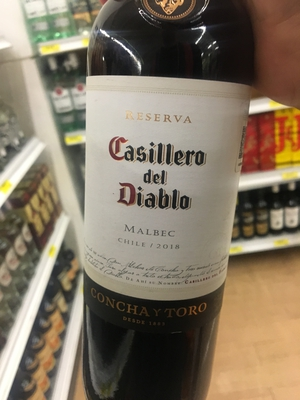casillero del diablo malbec: (75, 16, 252, 400)
